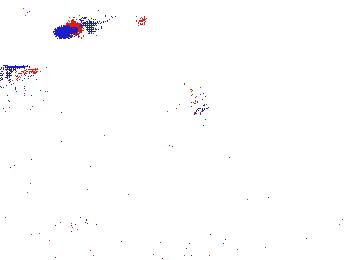redtail glassfish: (19, 3, 109, 42)
